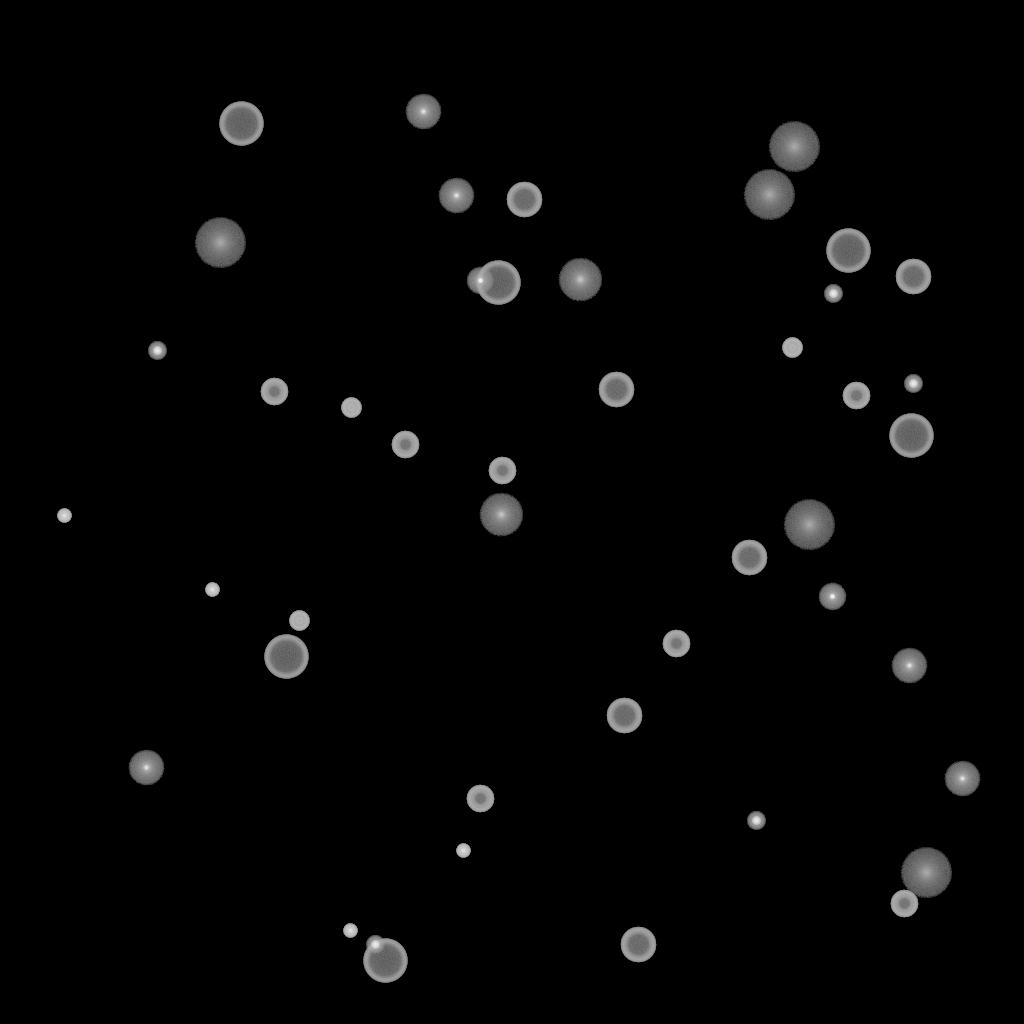depth:-10: (466, 267, 494, 295), (818, 583, 846, 611)
depth:-20: (904, 375, 922, 393), (366, 936, 384, 954), (747, 812, 765, 830), (824, 285, 842, 303), (148, 342, 166, 360)
depth:-30: (57, 509, 71, 523), (456, 844, 470, 858), (205, 583, 219, 597), (343, 924, 357, 938)
depth:-40: (341, 398, 361, 418), (289, 611, 309, 631), (782, 338, 802, 358)
depth:-50: (391, 431, 419, 459), (842, 382, 870, 410), (662, 630, 690, 658), (890, 890, 918, 918), (260, 378, 288, 406), (488, 457, 516, 485), (466, 785, 494, 813)
depth:-60: (506, 182, 542, 218), (895, 259, 931, 295), (598, 372, 634, 408), (606, 698, 642, 734), (620, 927, 656, 963), (731, 540, 767, 576)
depth:-70: (363, 939, 407, 983), (264, 635, 308, 679), (476, 261, 520, 305), (889, 414, 933, 458), (826, 229, 870, 273), (219, 102, 263, 146)
depth:0: (891, 648, 927, 684), (405, 94, 441, 130), (438, 178, 474, 214), (128, 750, 164, 786), (944, 761, 980, 797)
depth:10: (479, 493, 523, 537), (558, 258, 602, 302)
depth:20: (783, 500, 835, 550), (900, 848, 952, 898), (194, 218, 246, 268), (768, 122, 820, 172), (743, 170, 795, 220)
